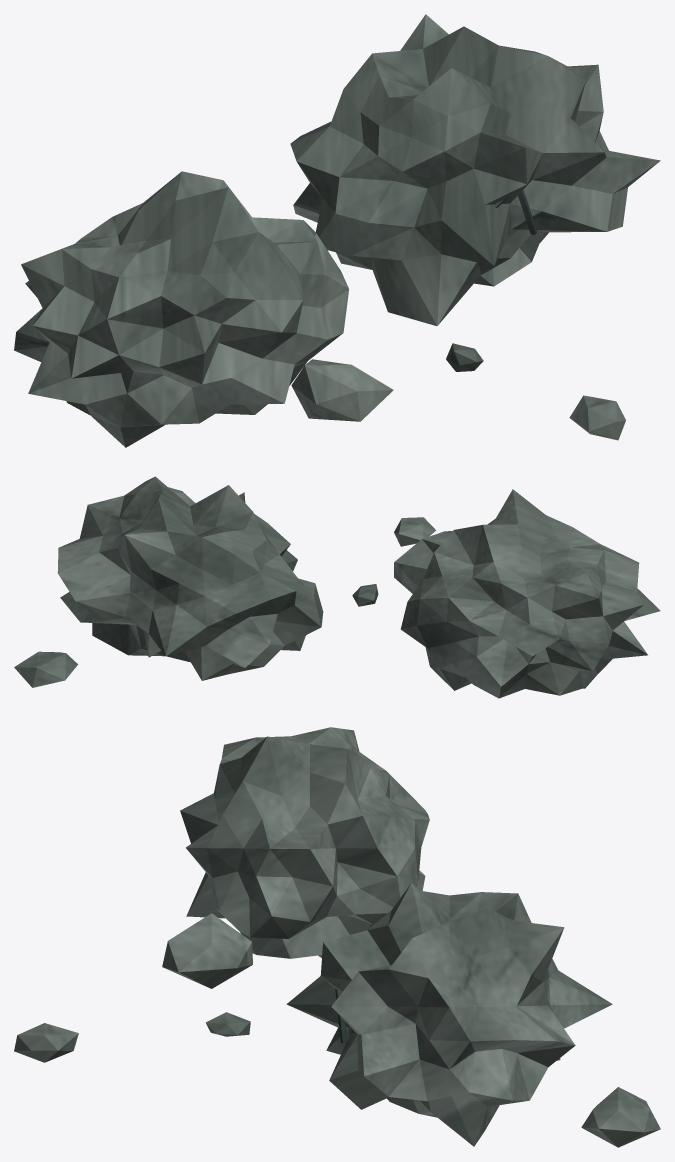
File: 0018_boulder_18.glb
3 renders of one model, top to bottom at view 1: azimuth 30°, elevation 25°; view 2: azimuth 150°, elevation 25°; view 3: azimuth 270°, elevation 25°, orthographic. The views are drawn at different scales.
Parts seen in each view (by area): view 1: stone; view 2: stone; view 3: stone.
Part boxes in pixels (box(x1,y1,x2,y2)): stone: box(14, 14, 660, 447); stone: box(14, 476, 660, 698); stone: box(14, 727, 660, 1147).
Bounding box in the file's own units: 2.78 × 0.951 × 2.49.
2 materials, 2 textured.
